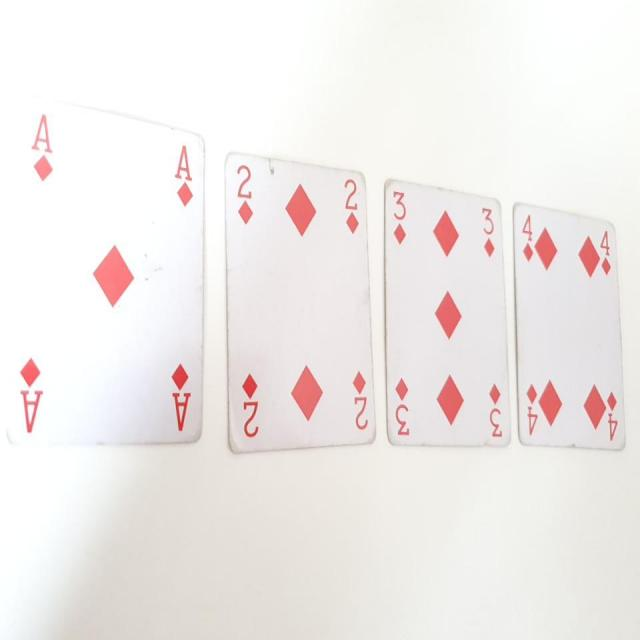2 Diamonds: (222, 145, 378, 454)
3 Diamonds: (380, 176, 510, 450)
4 Diamonds: (511, 199, 626, 453)
A Diamonds: (6, 88, 212, 452)
